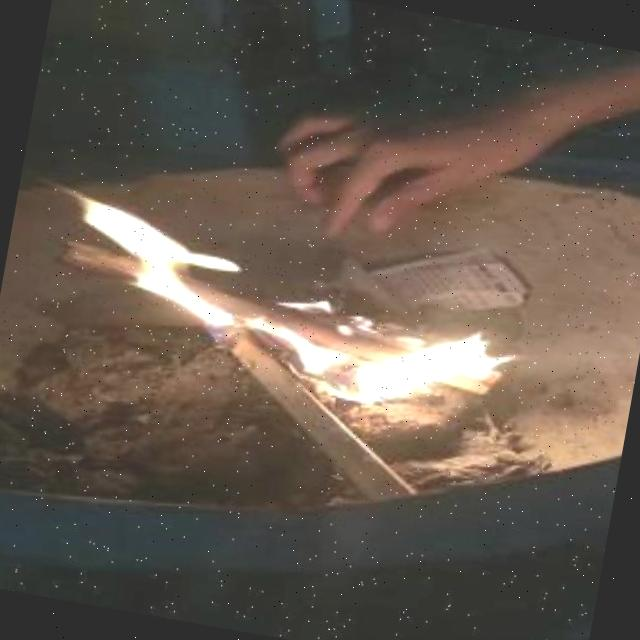fire: (36, 182, 537, 425)
